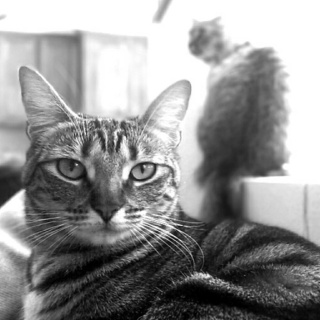Cat: (16, 66, 319, 319)
